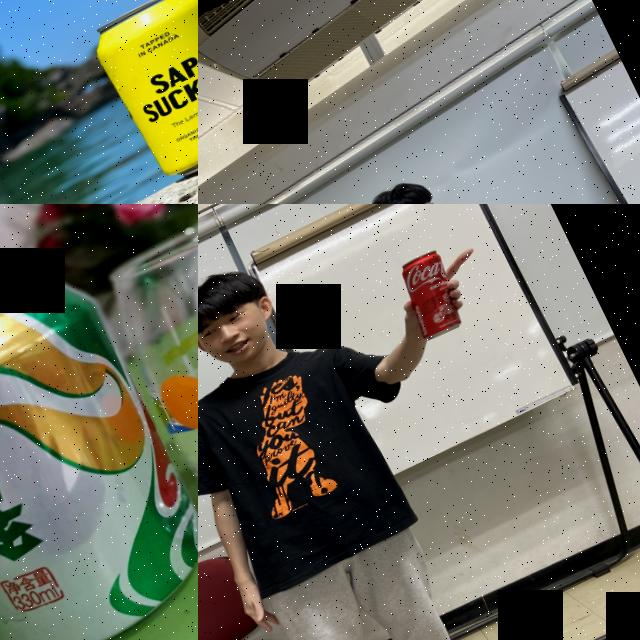can: (0, 248, 198, 640), (79, 0, 198, 195), (390, 246, 471, 342)
